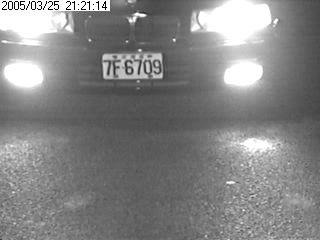plate: (100, 49, 164, 81)
